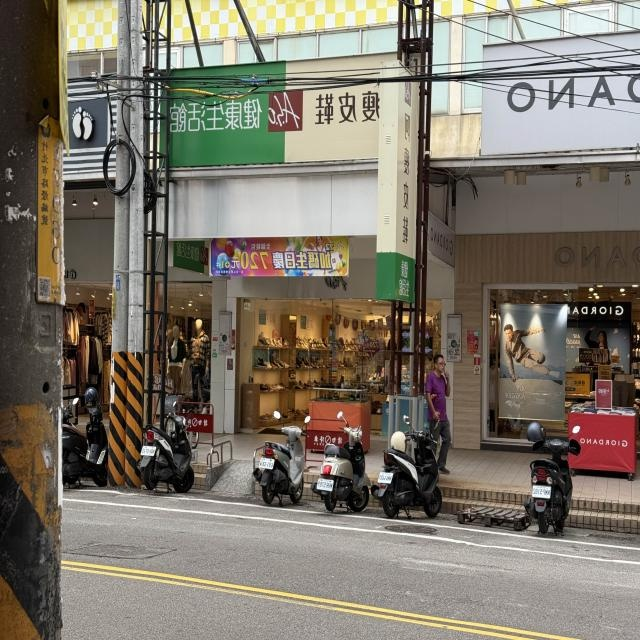Sin_Casco_Mascarrilla: (432, 354, 447, 372)
